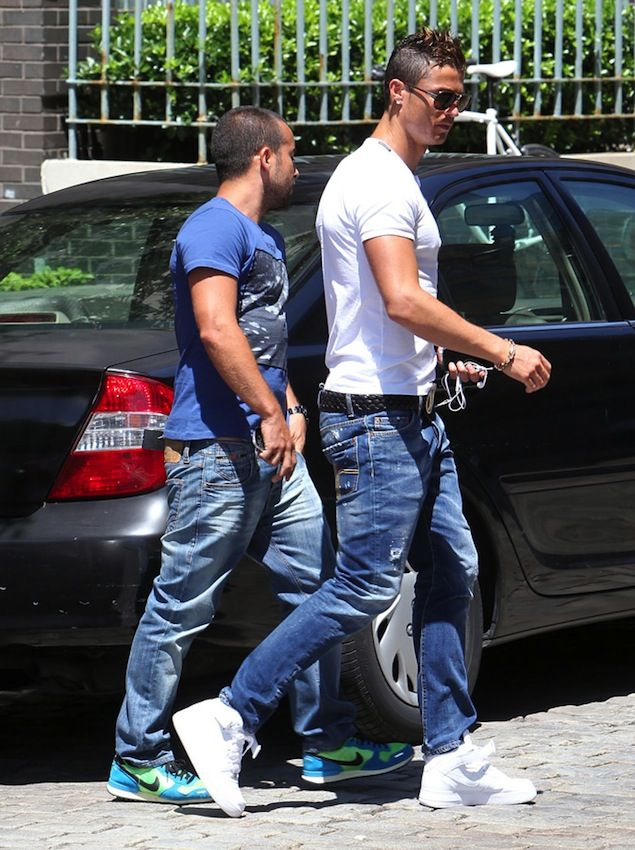Person: (170, 22, 555, 817), (104, 103, 417, 801)
